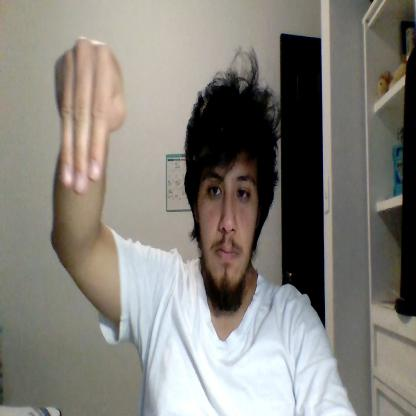M: (56, 37, 126, 194)
